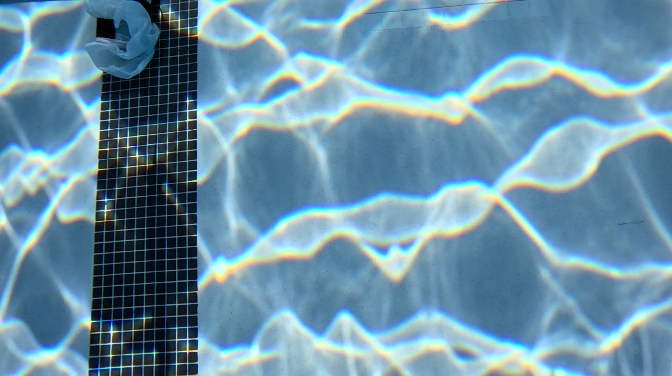sandbag: (89, 0, 163, 77)
